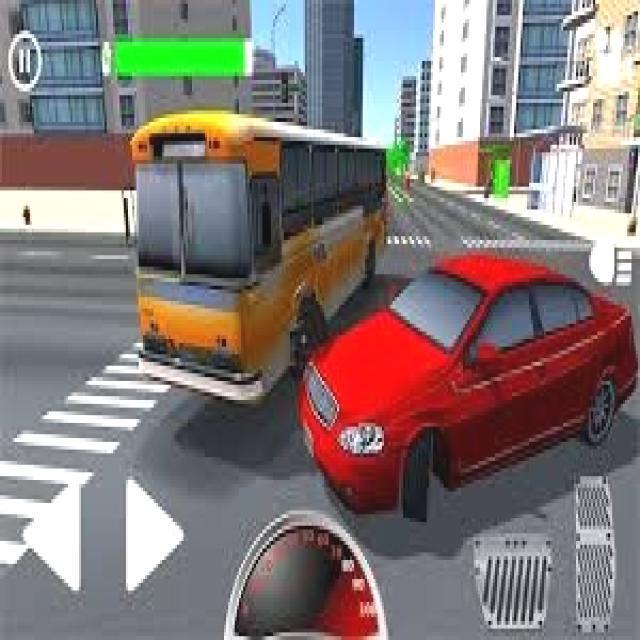Bus: (128, 106, 389, 414)
